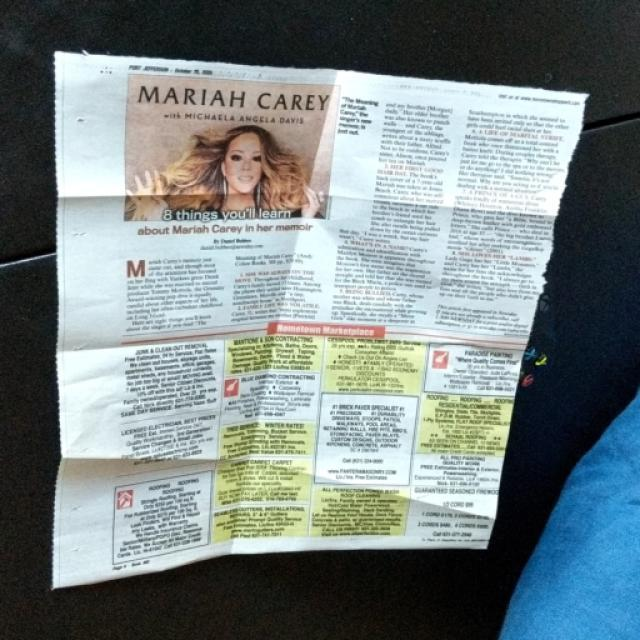document: (55, 54, 585, 586)
